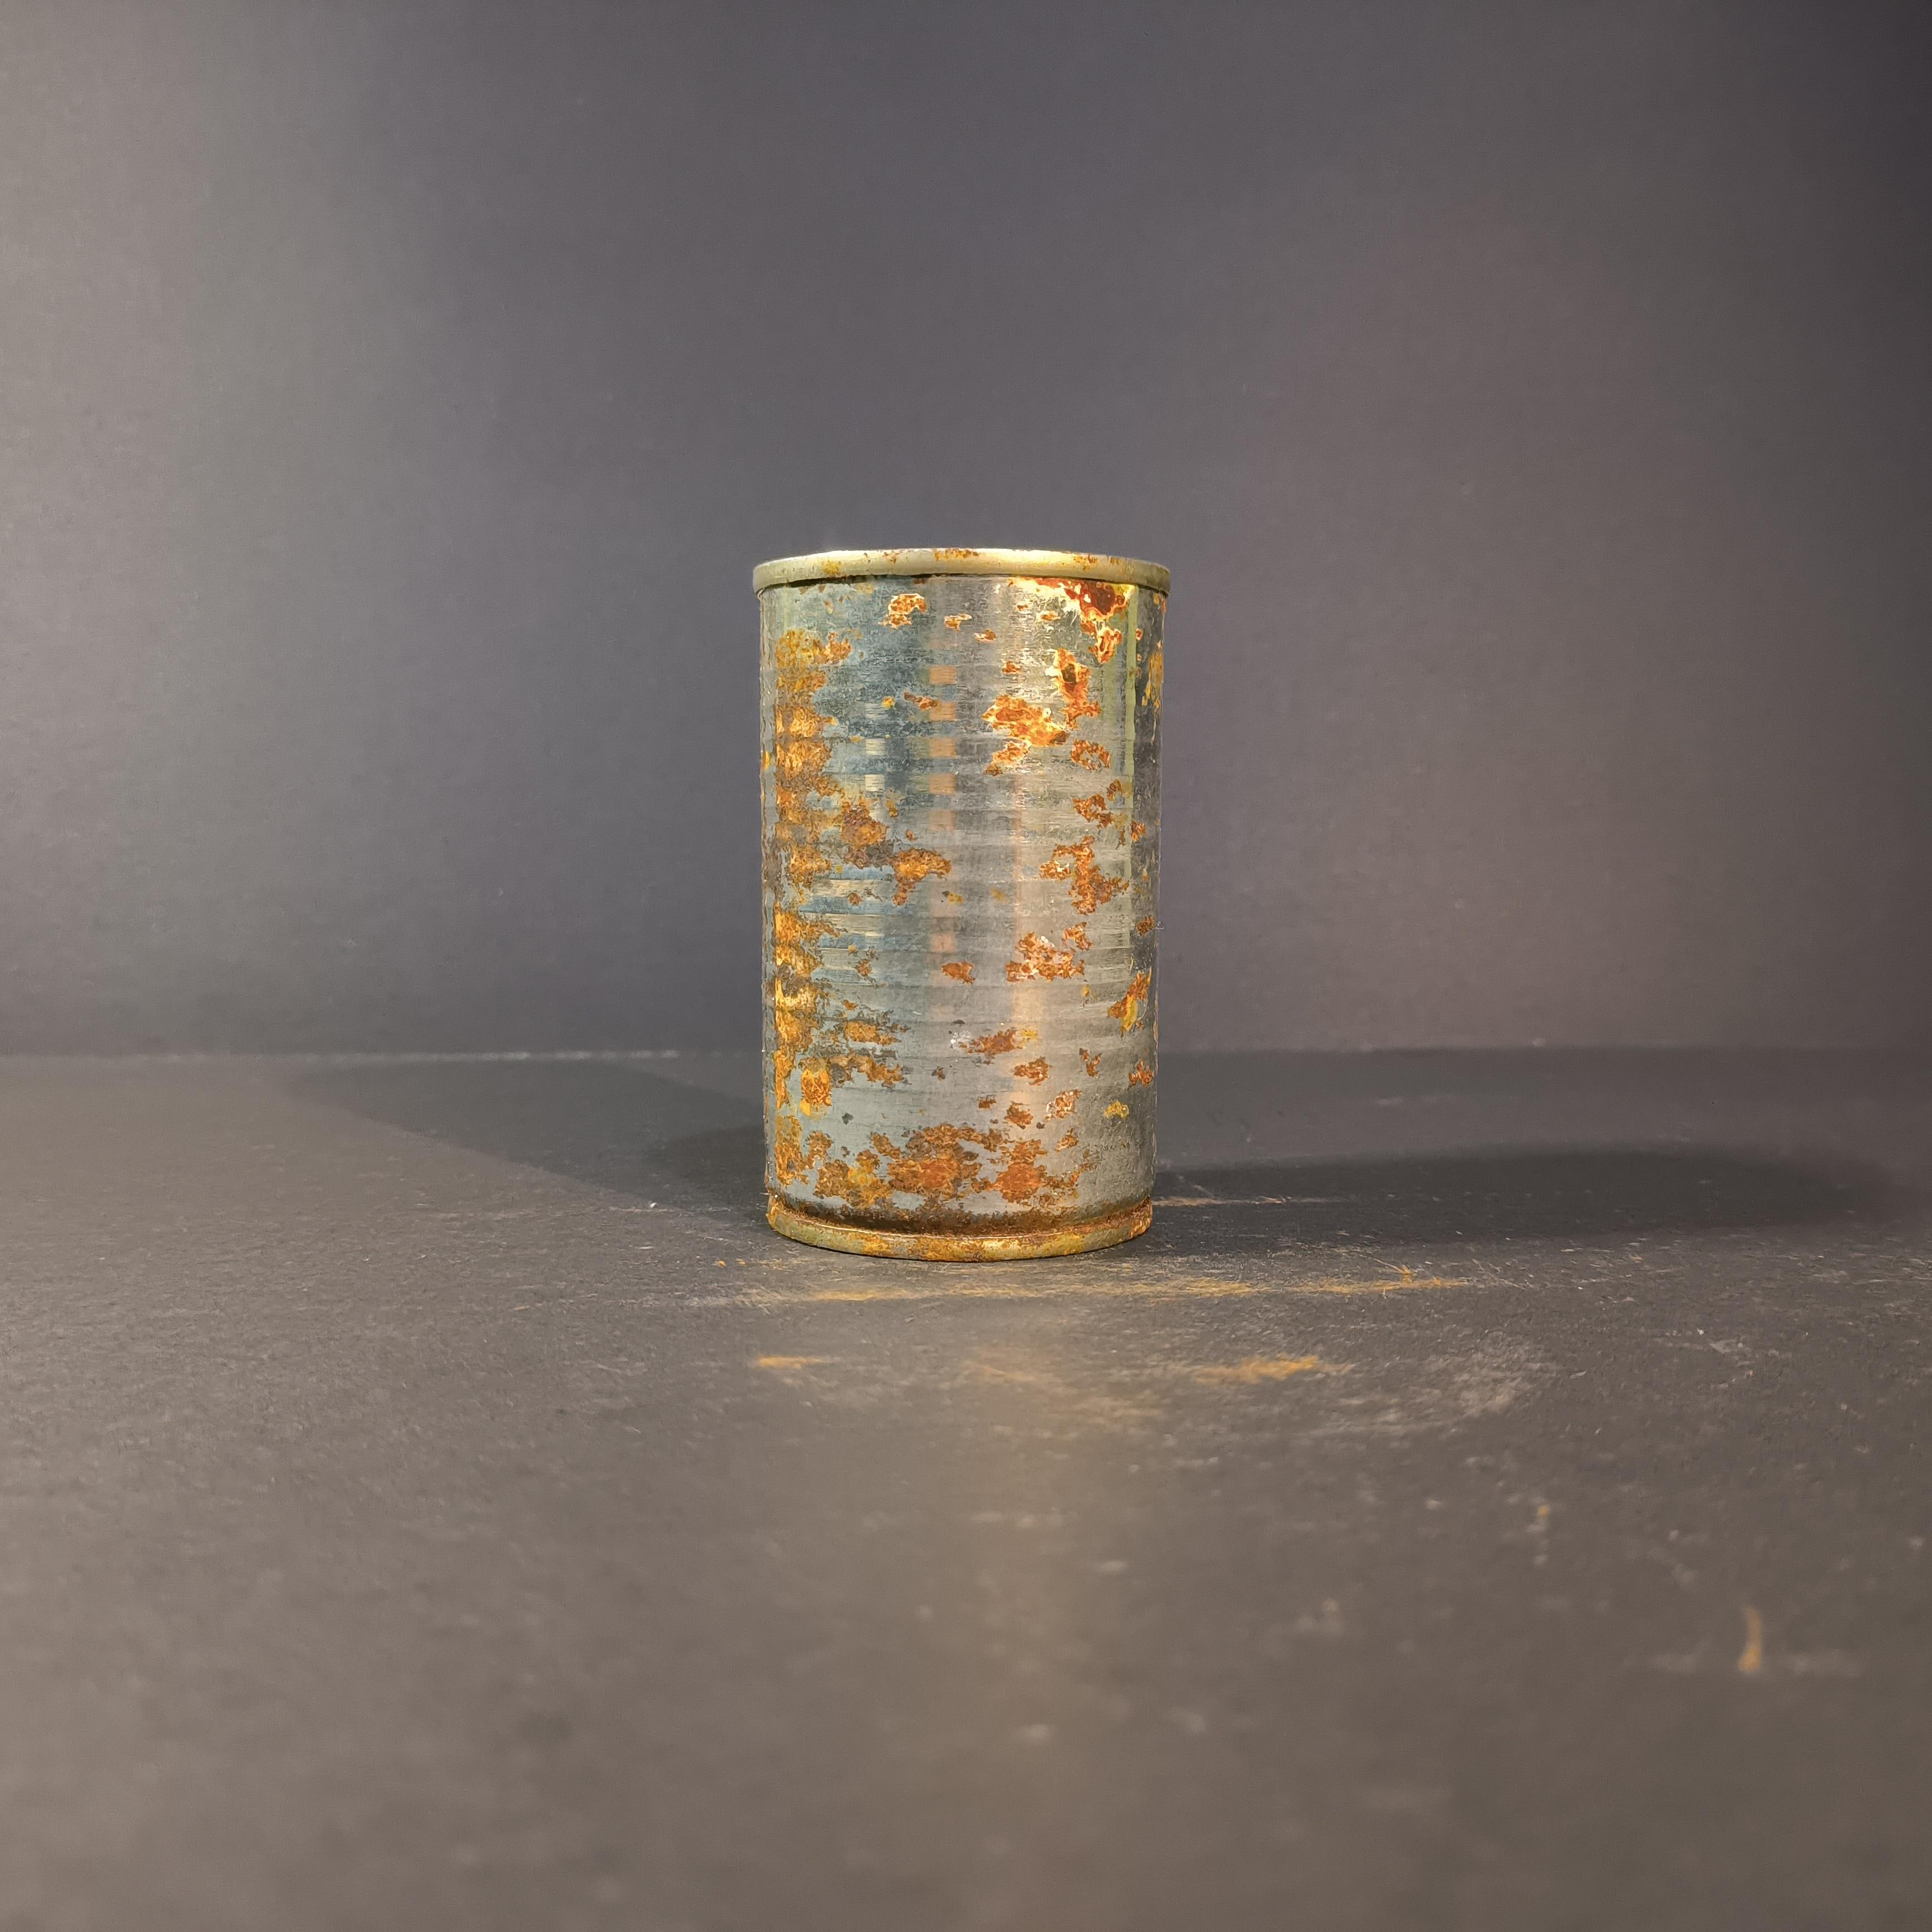Rusted: (740, 529, 1191, 1293)
